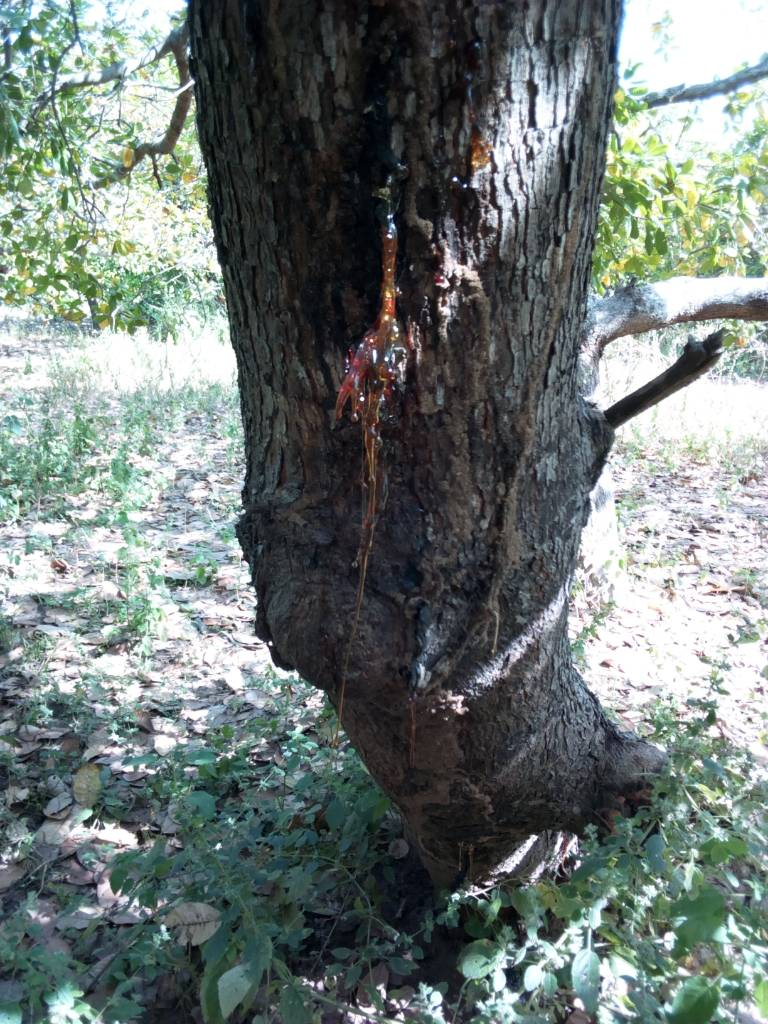Gommose: (327, 116, 418, 714)
